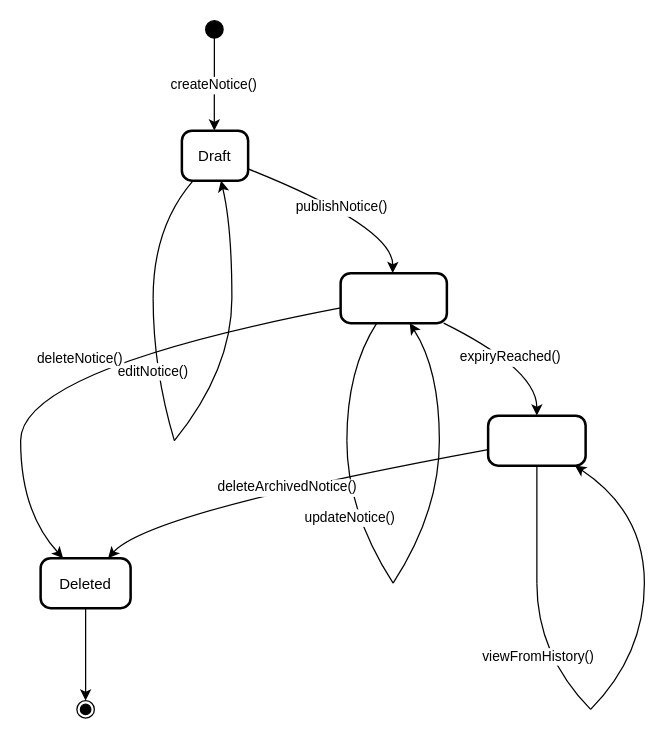
This 665x739 diagram has some shape labels left out. The centre of each missing label's shape, as x and y in pixels:
"Archived" belongs at point 536,440.
"Published" belongs at point 393,297.
